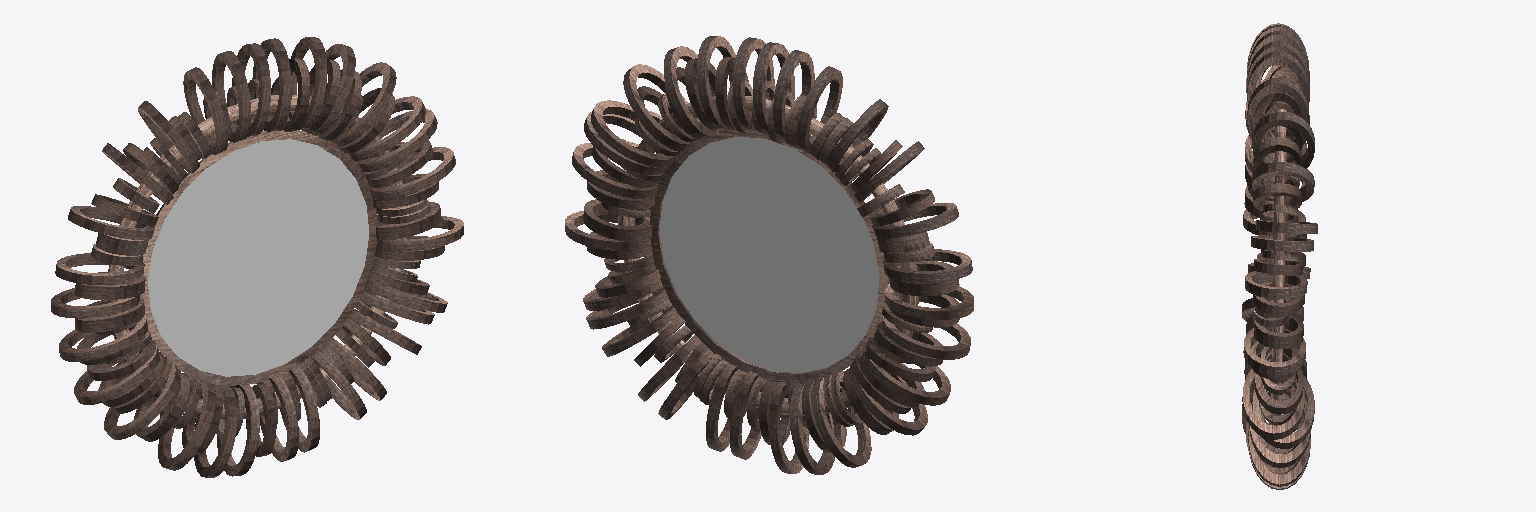
3 views of the same model, side by side, from view 1: azimuth 30°, elevation 25°; view 2: azimuth 150°, elevation 25°; view 3: azimuth 270°, elevation 25° (orthographic).
Parts seen in each view (by area): view 1: Mesh1_Group1_Model; view 2: Mesh1_Group1_Model; view 3: Mesh1_Group1_Model.
Boxes of the visible parts, <box> form: Mesh1_Group1_Model: <box>51,37,463,477</box>; Mesh1_Group1_Model: <box>565,36,973,474</box>; Mesh1_Group1_Model: <box>1242,23,1317,489</box>.
Size of the model in its own units: 0.9286 by 0.9265 by 0.1524.
2 materials, 1 textured.